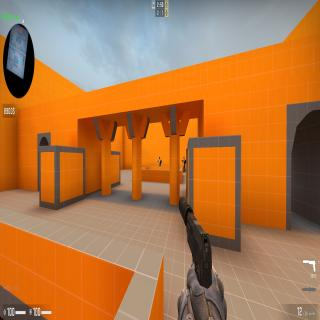T-Body: (183, 158, 186, 173), (158, 158, 162, 166)
T-Head: (183, 156, 184, 160), (159, 157, 160, 159)
